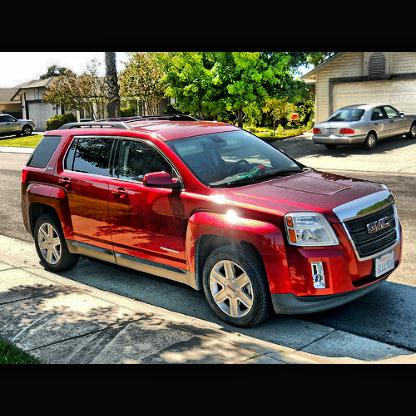GMC Terrain SUV 2012: (20, 114, 405, 332)
